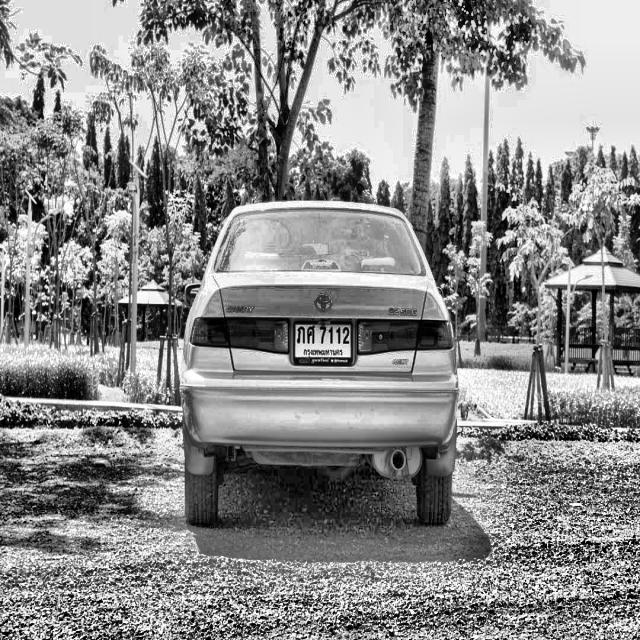license-plate: (293, 318, 353, 369)
